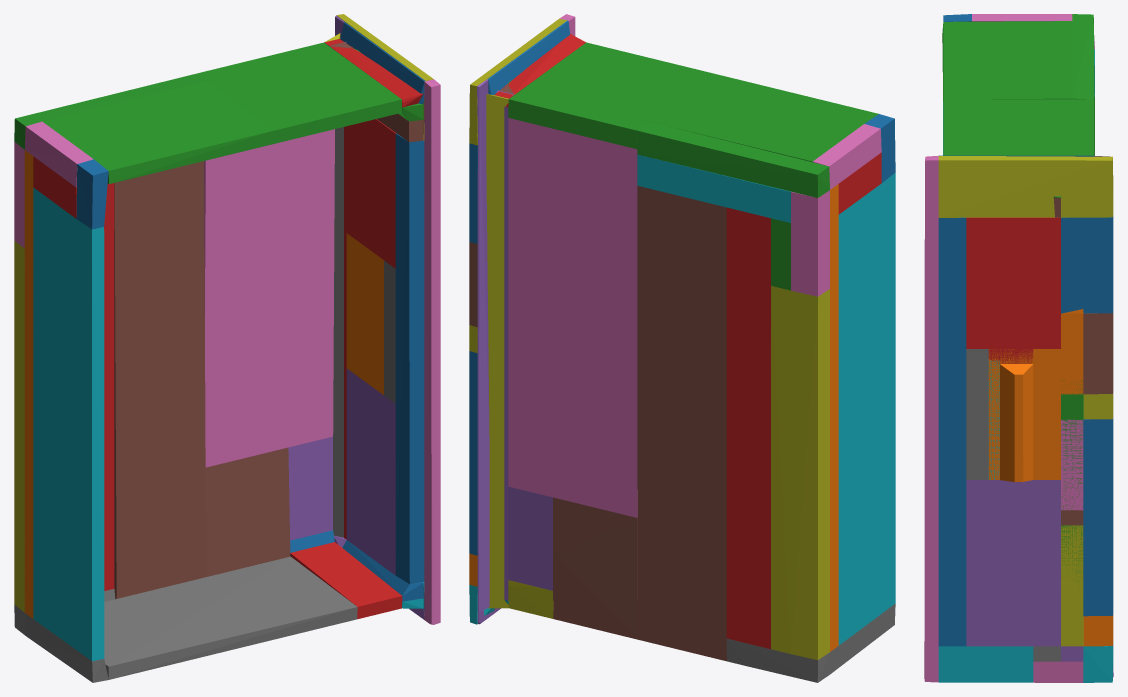
The model's file is Drawer_04_cvx.obj.
3 renders of one model, left to right at view 1: azimuth 30°, elevation 25°; view 2: azimuth 150°, elevation 25°; view 3: azimuth 270°, elevation 25°, orthographic. The views are drawn at different scales.
Parts seen in each view (by area): view 1: scenes/apartment_0000_coacd/output/Unknown/Kitchen_Sink/Drawer_0; view 2: scenes/apartment_0000_coacd/output/Unknown/Kitchen_Sink/Drawer_0; view 3: scenes/apartment_0000_coacd/output/Unknown/Kitchen_Sink/Drawer_0.
Boxes of the visible parts, left/top/right/bottom form: scenes/apartment_0000_coacd/output/Unknown/Kitchen_Sink/Drawer_0: left=14, top=14, right=440, bottom=682; scenes/apartment_0000_coacd/output/Unknown/Kitchen_Sink/Drawer_0: left=469, top=14, right=895, bottom=682; scenes/apartment_0000_coacd/output/Unknown/Kitchen_Sink/Drawer_0: left=924, top=14, right=1113, bottom=682.
Size of the model in its own units: 0.5555 by 0.811 by 0.2653.
